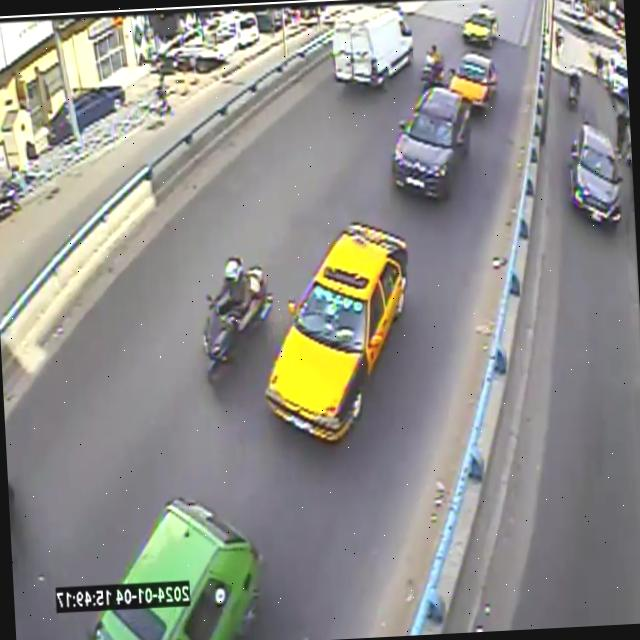car: (266, 222, 408, 440), (90, 497, 261, 640), (393, 87, 470, 198), (333, 6, 412, 85), (449, 53, 498, 106), (463, 7, 499, 47)
